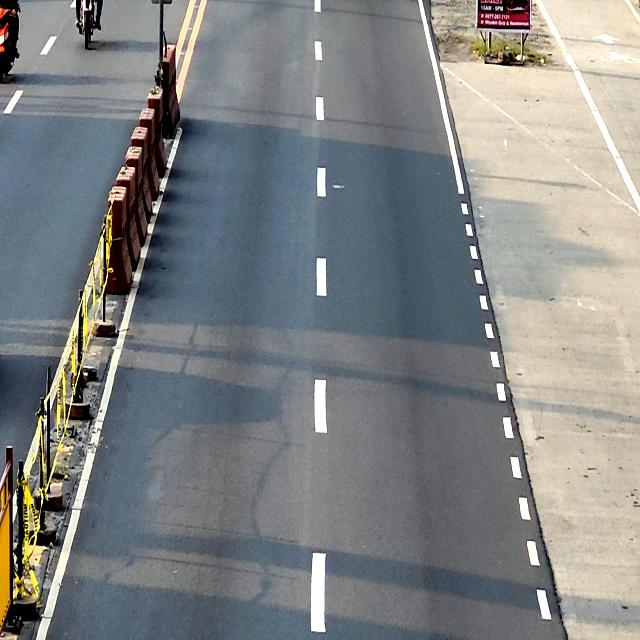Motorcycle: (0, 5, 16, 84), (77, 0, 99, 53)
